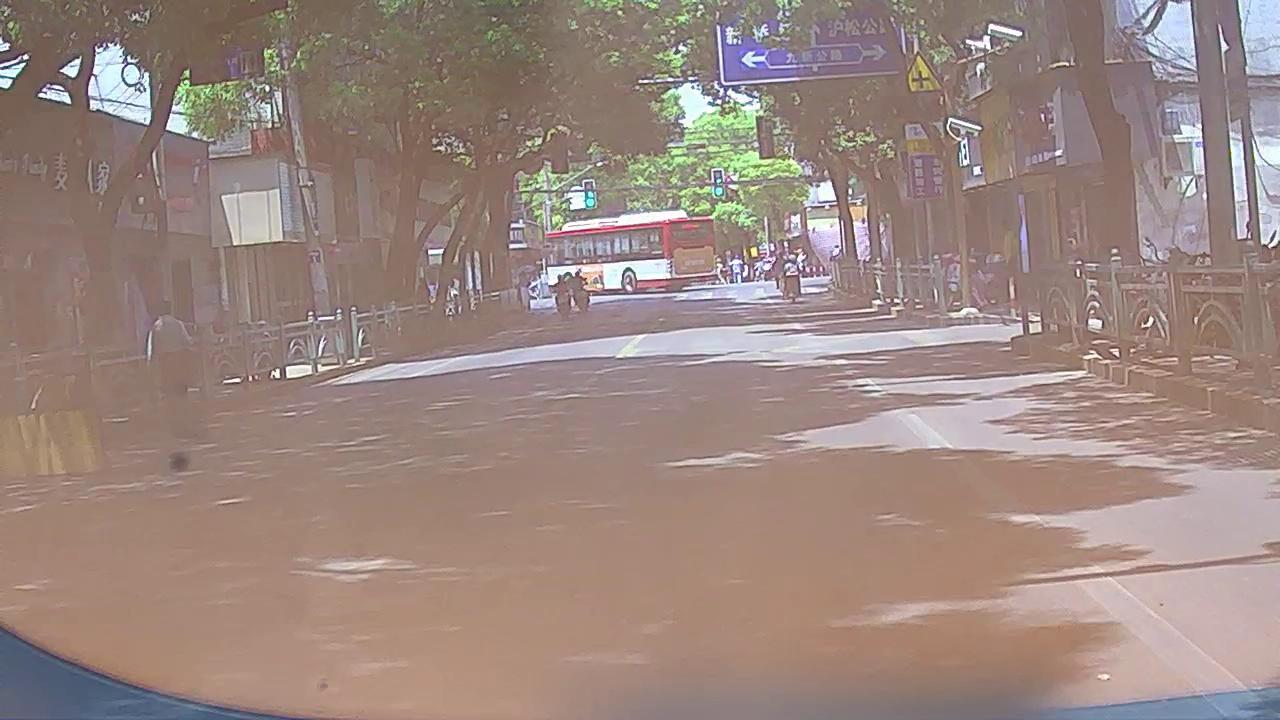traffic_light: (712, 168, 724, 198), (584, 181, 596, 208)
